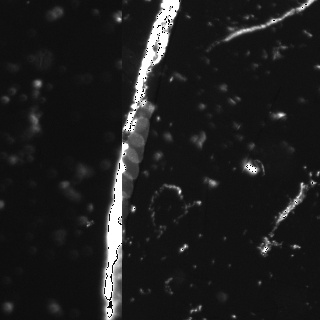embryo: (129, 117, 149, 147), (134, 102, 155, 130), (125, 133, 144, 163), (122, 148, 140, 179), (121, 172, 134, 198), (118, 190, 130, 218)
